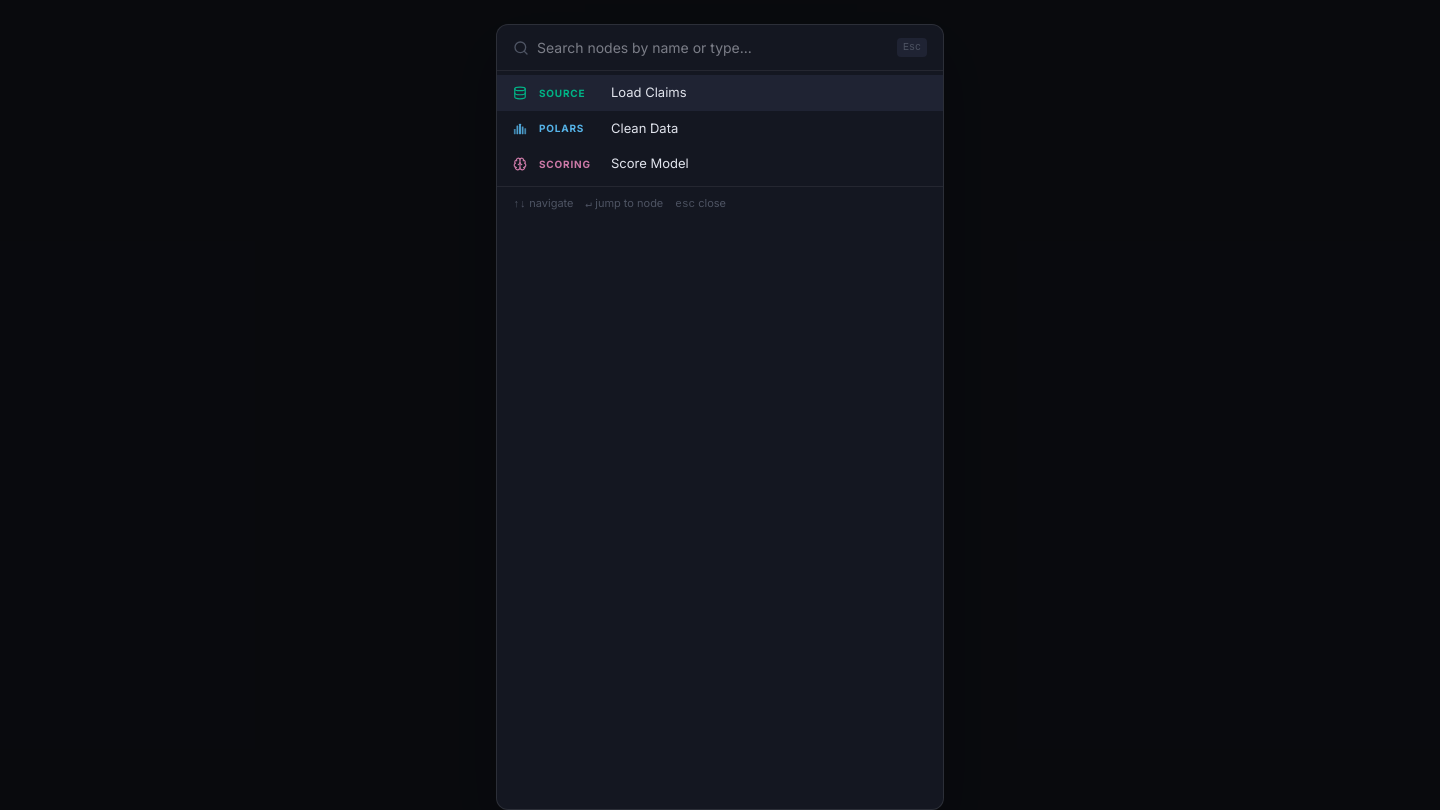
Test: NodeSearch › shows empty state when no matches
The width and height of the screenshot is (1440, 810).
In the field with placeholder "Search nodes by name or type...": (713,48) [537, 37, 889, 58], type "zzz_no_match"
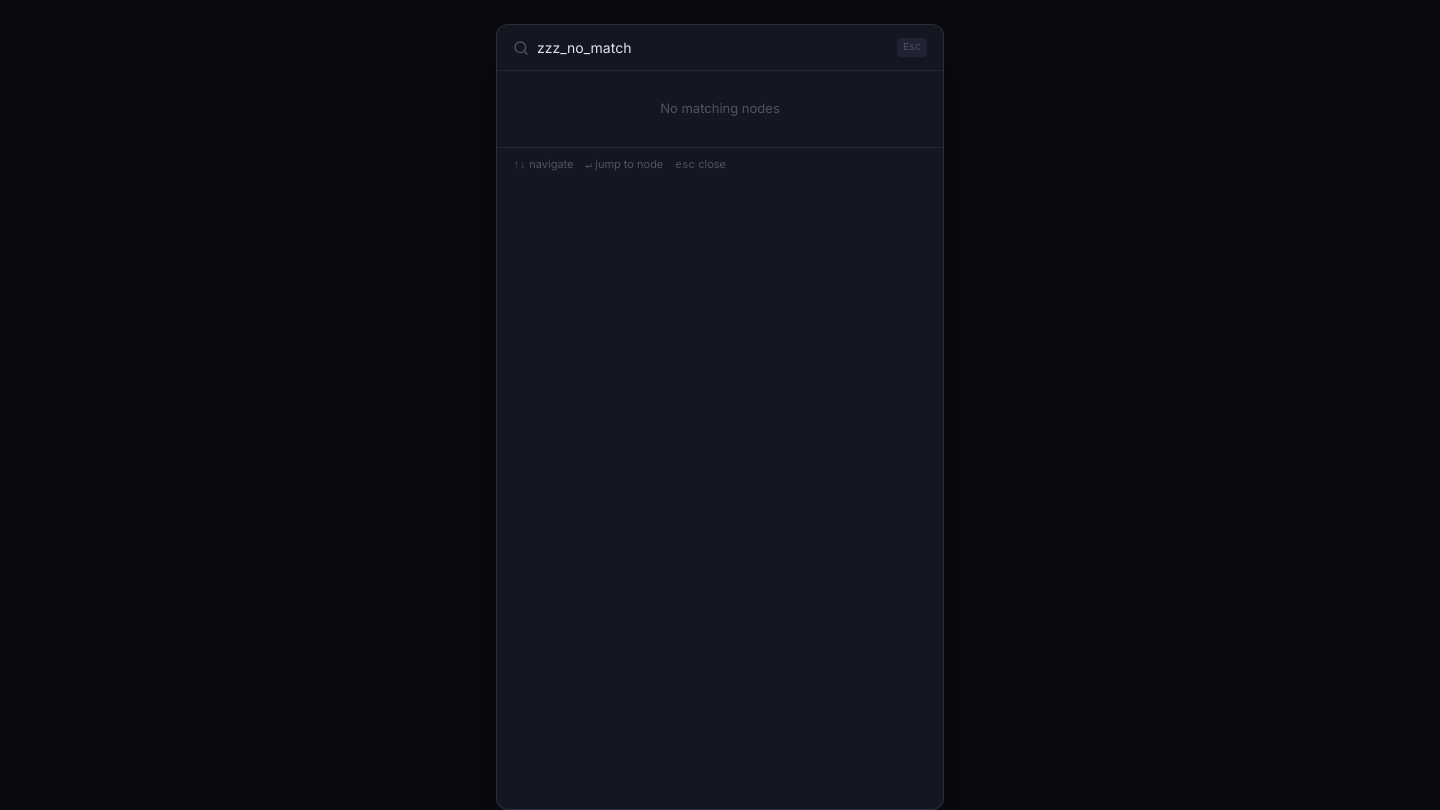
Expected: the text "No matching nodes" is shown, [660, 100, 780, 116]
